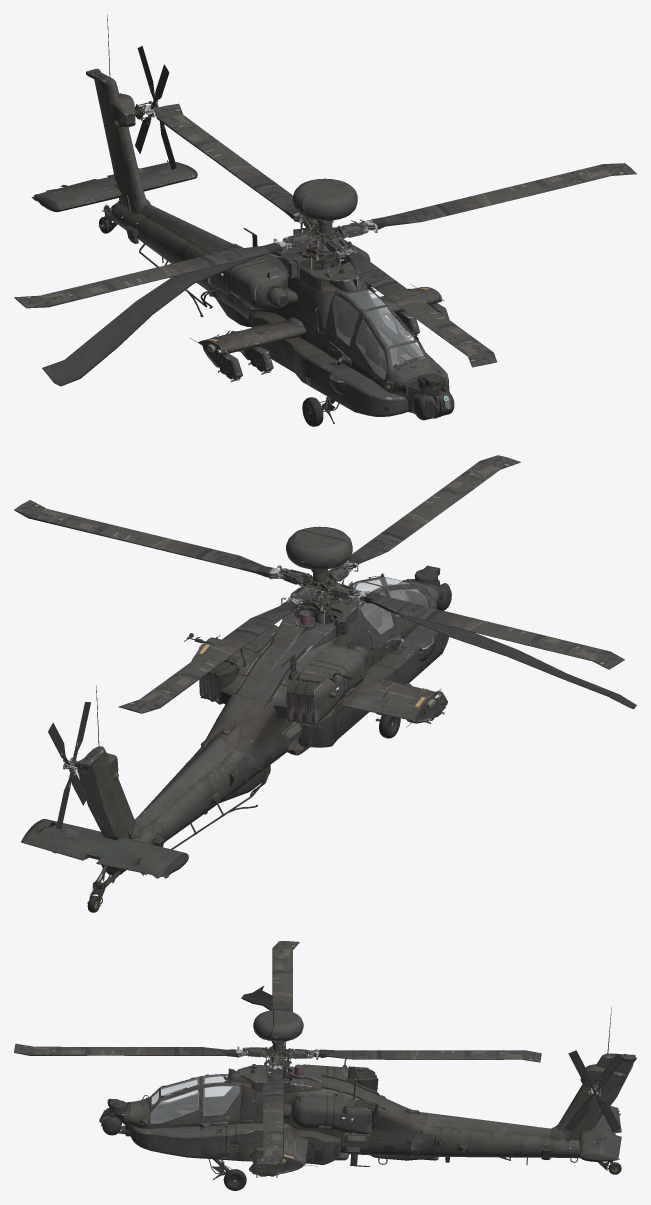
The model's file is VEH_AH64E.glb.
3 views of the same model, one above another, from view 1: azimuth 30°, elevation 25°; view 2: azimuth 150°, elevation 25°; view 3: azimuth 270°, elevation 25° (orthographic). The views are drawn at different scales.
Visible parts, largest first — view 1: ob_veh_helicopter_ah64e_base_s2, ob_veh_helicopter_ah64e_base_s1, ob_veh_helicopter_ah64e_base_s4, ob_veh_helicopter_ah64e_base_s6; view 2: ob_veh_helicopter_ah64e_base_s2, ob_veh_helicopter_ah64e_base_s1, ob_veh_helicopter_ah64e_base_s4, ob_veh_helicopter_ah64e_base_s6; view 3: ob_veh_helicopter_ah64e_base_s1, ob_veh_helicopter_ah64e_base_s2, ob_veh_helicopter_ah64e_base_s4, ob_veh_helicopter_ah64e_base_s6.
Boxes of the visible parts, x1,y1,x2,y2 form: ob_veh_helicopter_ah64e_base_s2: (34, 14, 454, 426); ob_veh_helicopter_ah64e_base_s1: (122, 216, 449, 418); ob_veh_helicopter_ah64e_base_s4: (14, 103, 636, 367); ob_veh_helicopter_ah64e_base_s6: (333, 290, 450, 408); ob_veh_helicopter_ah64e_base_s2: (21, 526, 636, 912); ob_veh_helicopter_ah64e_base_s1: (184, 573, 448, 789); ob_veh_helicopter_ah64e_base_s4: (14, 455, 624, 713); ob_veh_helicopter_ah64e_base_s6: (334, 577, 427, 694); ob_veh_helicopter_ah64e_base_s1: (102, 1059, 570, 1166); ob_veh_helicopter_ah64e_base_s2: (99, 986, 636, 1190); ob_veh_helicopter_ah64e_base_s4: (14, 941, 541, 1165); ob_veh_helicopter_ah64e_base_s6: (102, 1074, 352, 1122).
Bounding box in the file's own units: 14.61 × 5.17 × 17.23.
7 materials, 5 textured.
